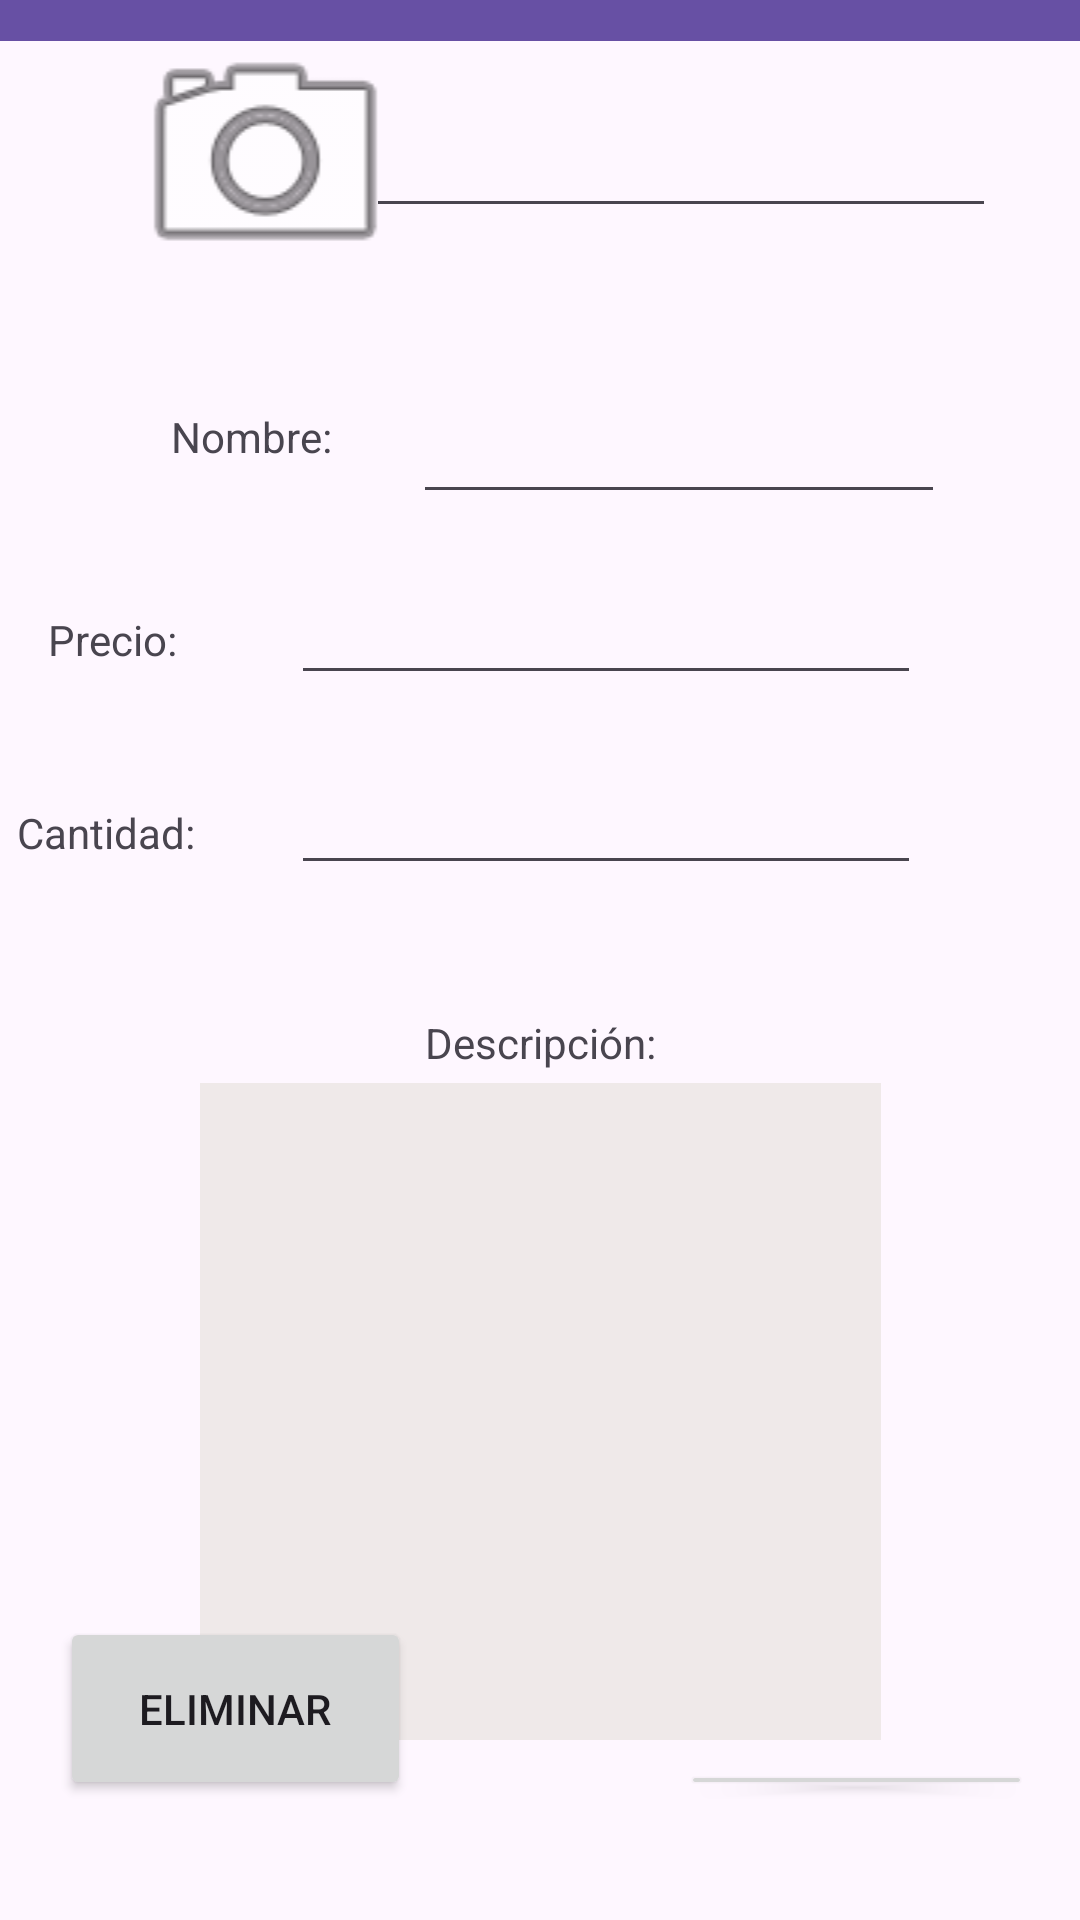

Point at icon controls on the screen. Image size 1080x1920, points as [x,y].
camera: [265,151]
